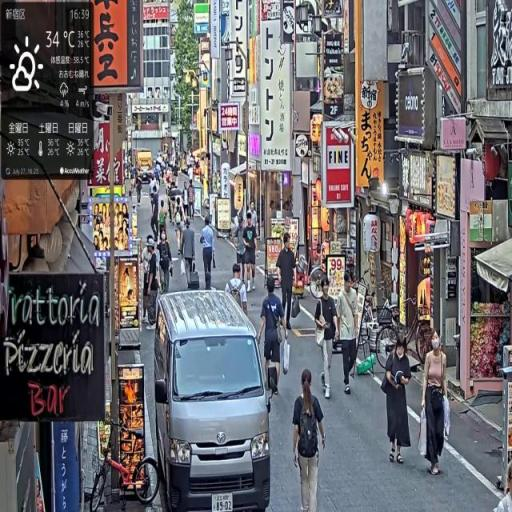person: (292, 369, 328, 512), (382, 331, 414, 467), (423, 335, 452, 479), (259, 273, 288, 401), (315, 277, 340, 400), (336, 272, 360, 395), (276, 232, 298, 334), (226, 263, 250, 318), (180, 218, 198, 289), (201, 216, 217, 292), (158, 229, 175, 296)
